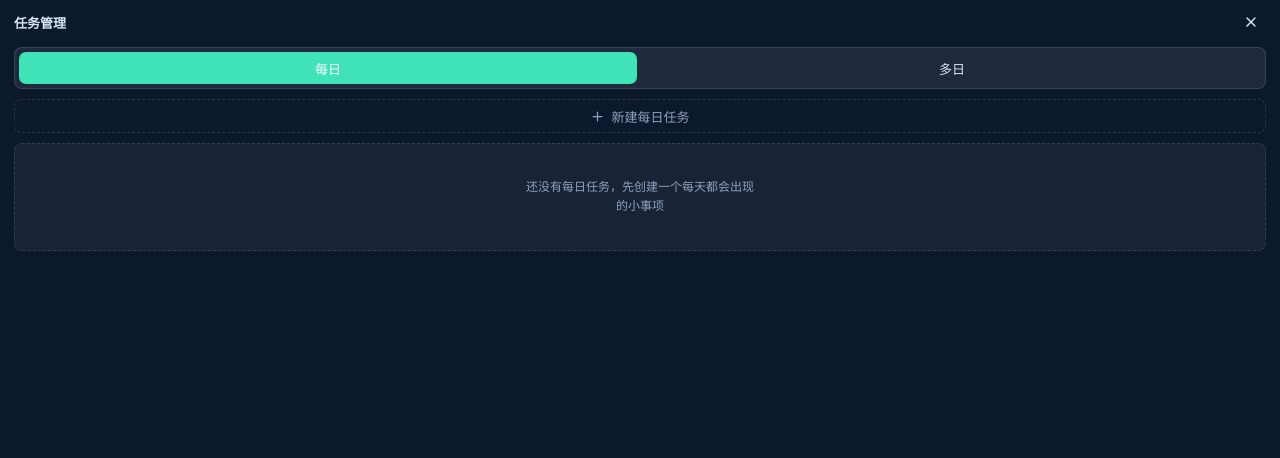
Test case: TaskManagePanel › updates creation copy when switching to multi-day tasks
Click the button "多日" at (952, 68), box top-left (643, 52), bottom-right (1261, 84)
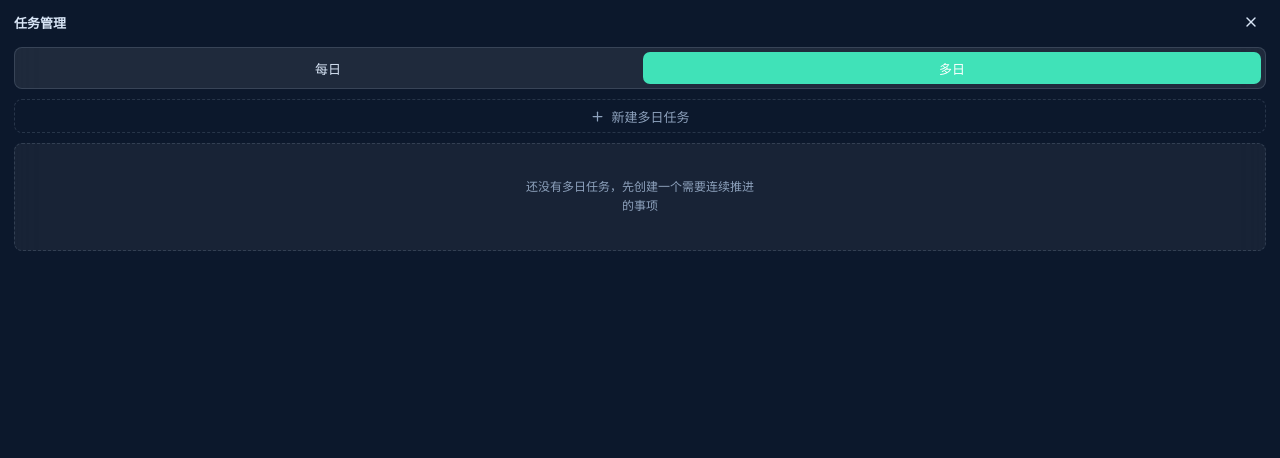
Click the button "新建多日任务" at (640, 116), box top-left (14, 99), bottom-right (1266, 133)
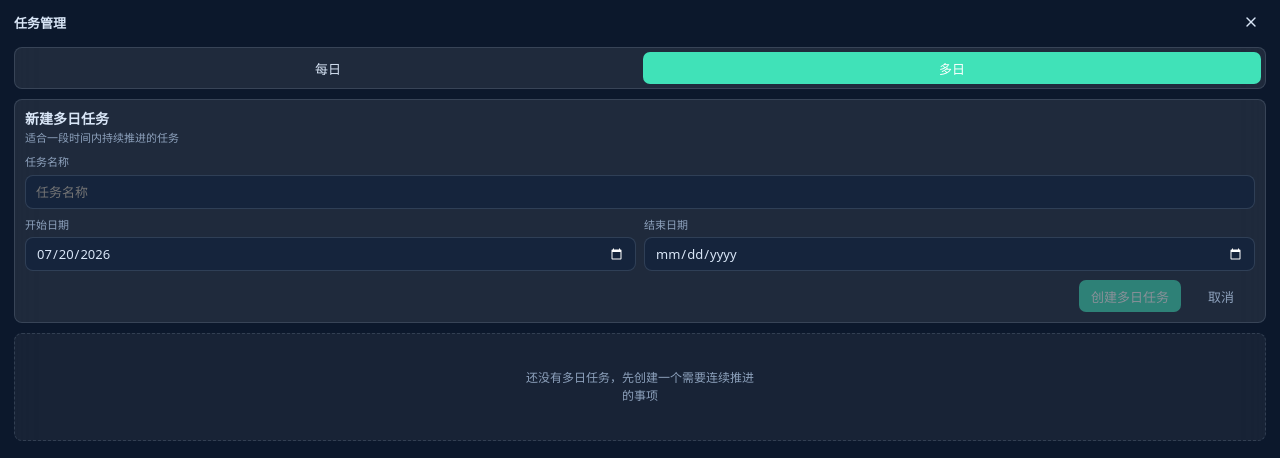
Expected: the heading "新建多日任务" is shown, top-left (25, 109), bottom-right (109, 128)
Expected: the date field labelled "开始日期" is shown, top-left (25, 237), bottom-right (636, 271)
Expected: the date field labelled "结束日期" is shown, top-left (644, 237), bottom-right (1255, 271)
